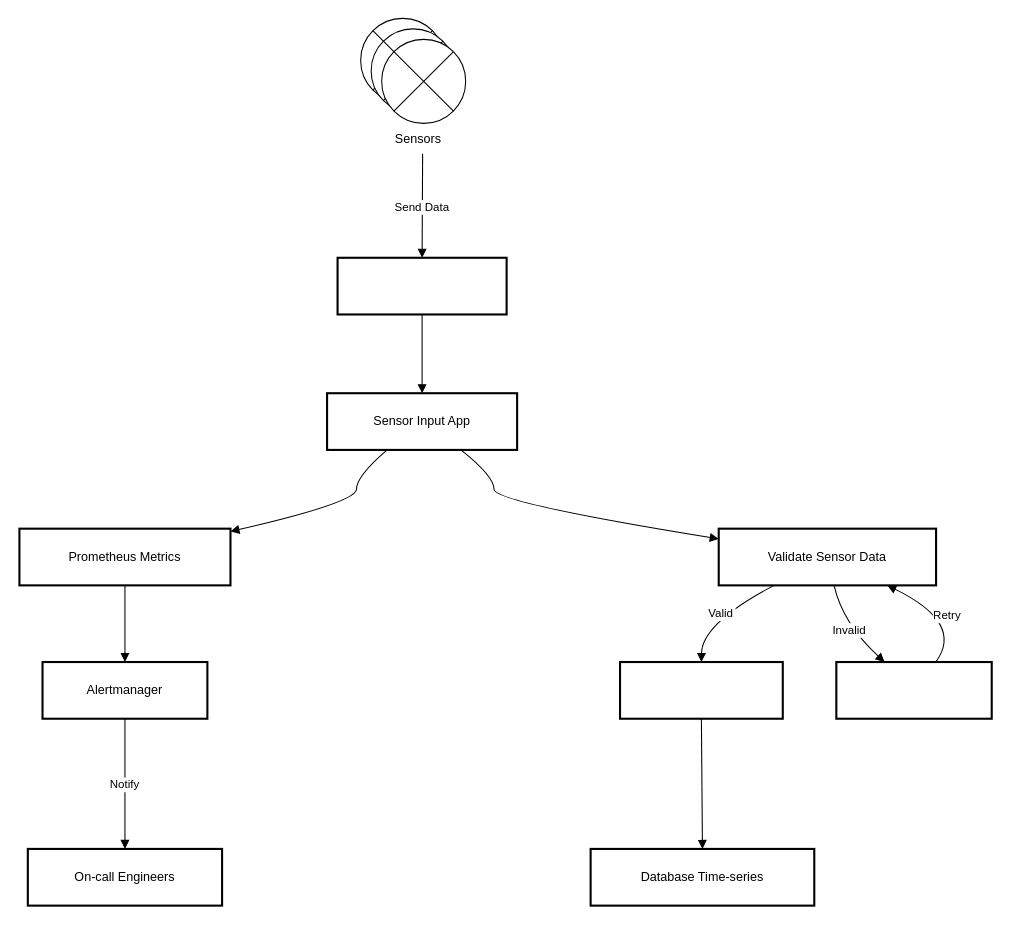
Image size: 1010x925. Some labels were removed from this diagram. The shapes that lost their labels are listed below. From the top down, each one's box as (x1, y1, x2, y2) in pixels, then its label:
(336, 256, 507, 315): Load Balancer
(618, 660, 783, 719): Buffer Queue
(835, 660, 992, 719): Retry Queue
